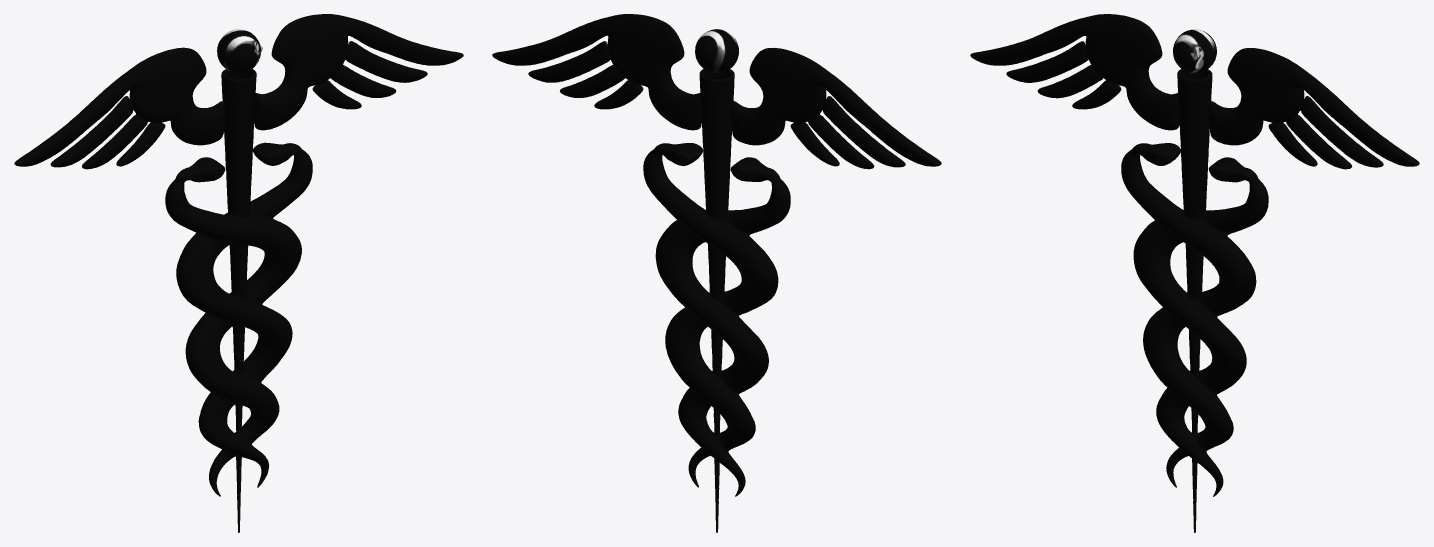
The model's file is caduceus.glb.
3 renders of one model, left to right at view 1: azimuth 30°, elevation 25°; view 2: azimuth 150°, elevation 25°; view 3: azimuth 330°, elevation 25°, orthographic.
Bounding box in the file's own units: 1.78 × 1.9 × 0.1595.
1 material, 1 textured.
